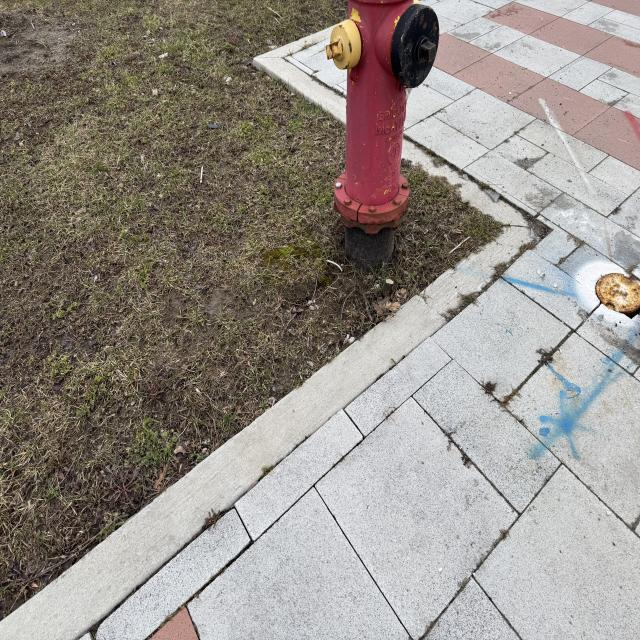Fire hydrant: (325, 0, 440, 235)
